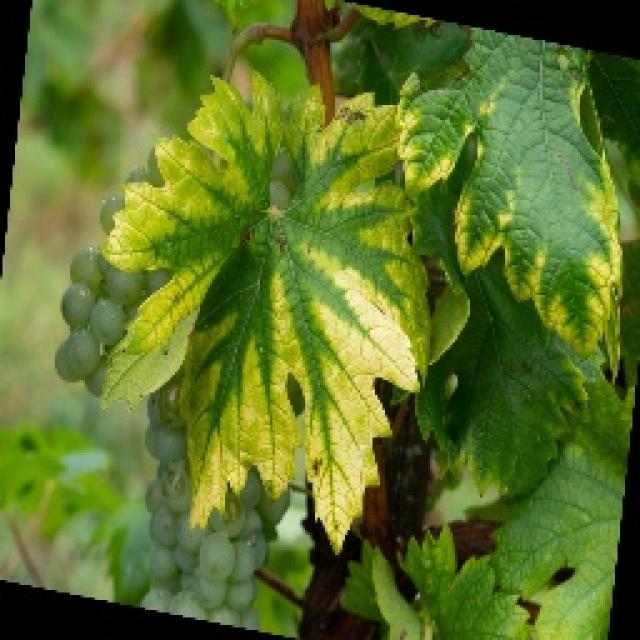Chlorosis: (65, 53, 393, 467)
